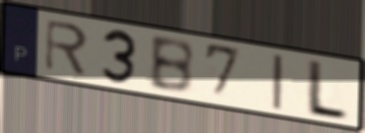3: (99, 28, 139, 85)
7: (202, 41, 245, 104)
B: (147, 35, 196, 96)
I: (269, 52, 285, 112)
L: (302, 58, 351, 123)
R: (43, 18, 91, 78)
